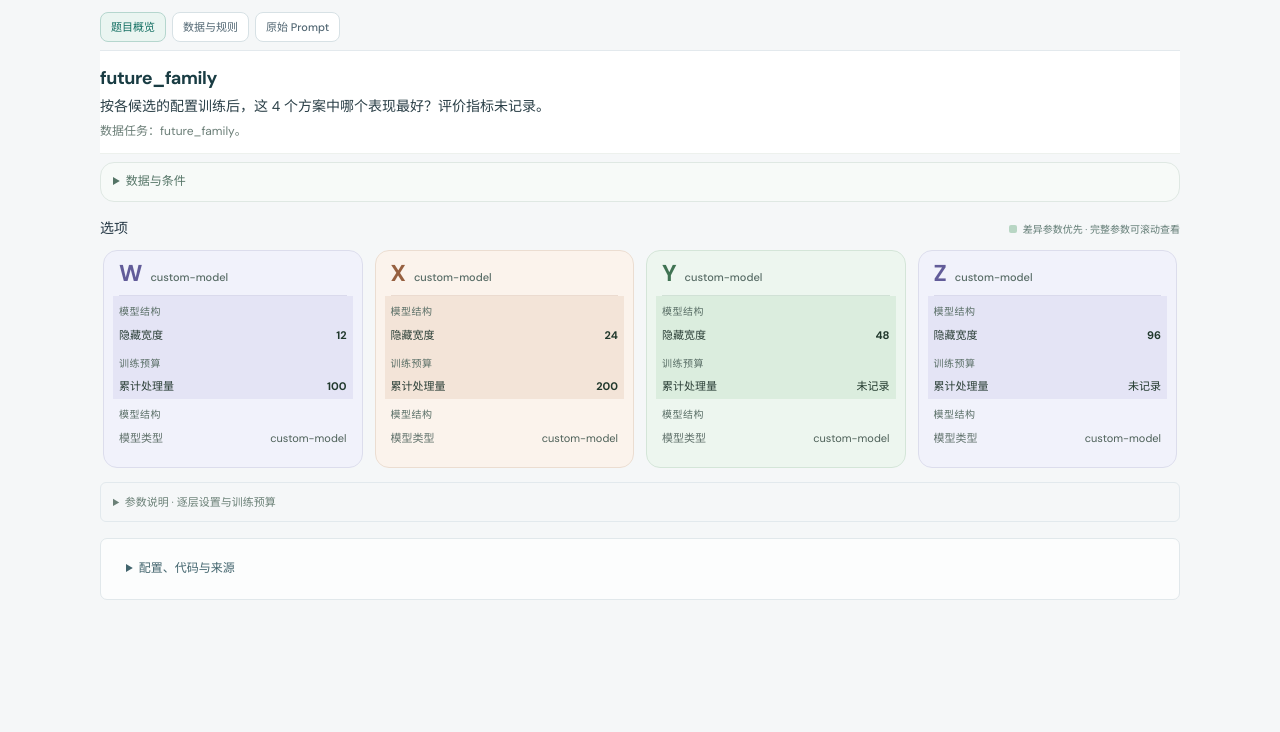
it: uses public views when files are unavailable, supports arbitrary choices, and leaves missing facts unspecified
expect the heading "future_family" is shown: met, box [100,66,217,90]
expect the element showing "训练预算 累计处理量 100" is shown: met, box [113,348,352,399]
Click the tab "原始 Prompt": (298,27) [255,12,340,42]
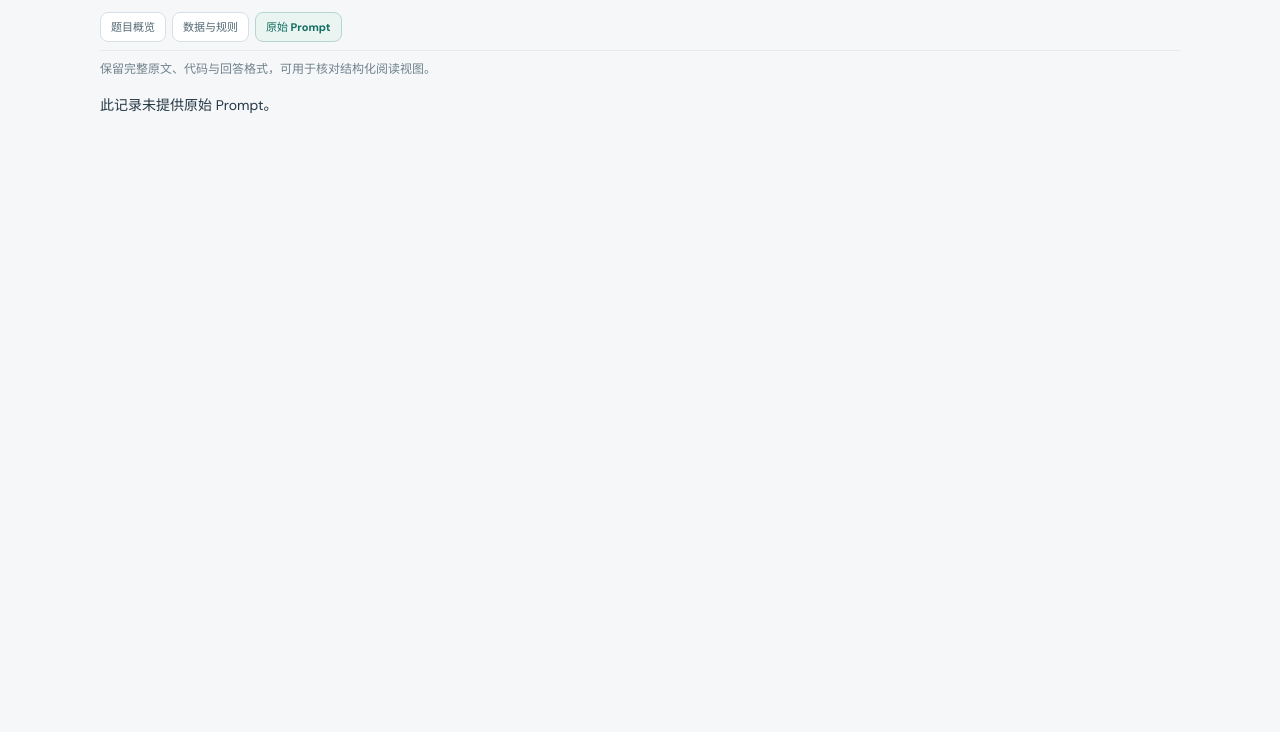
expect the text "此记录未提供原始 Prompt。" is shown: met, box [100,96,278,114]
